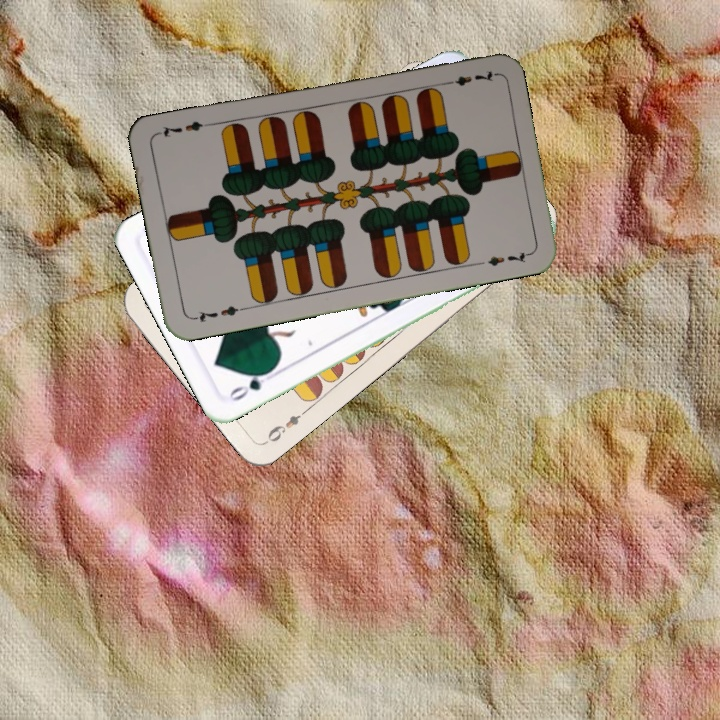E7: (188, 301, 247, 325), (439, 66, 497, 89)
E9: (261, 404, 311, 447)
GO: (224, 365, 279, 404)
